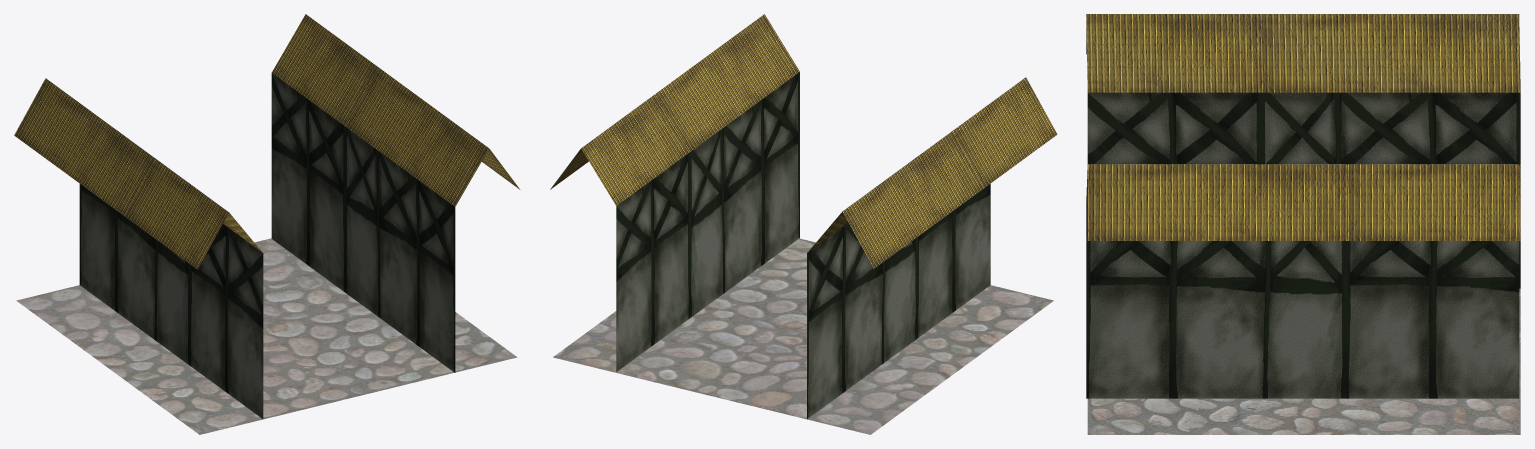
File: 3-5_Corridor_NoFace_v2.fbx
The picture shows the model from 3 angles, left to right: view 1: azimuth 30°, elevation 25°; view 2: azimuth 150°, elevation 25°; view 3: azimuth 270°, elevation 25°; orthographic projection. The views are drawn at different scales.
Parts seen in each view (by area): view 1: Corridor_NoFace_v2; view 2: Corridor_NoFace_v2; view 3: Corridor_NoFace_v2.
Boxes of the visible parts, left/top/right/bottom form: Corridor_NoFace_v2: left=14, top=14, right=520, bottom=434; Corridor_NoFace_v2: left=550, top=14, right=1057, bottom=434; Corridor_NoFace_v2: left=1086, top=14, right=1520, bottom=434.
Size of the model in its own units: 102 by 64.88 by 100.
Materials: 2 (2 with a texture image).
